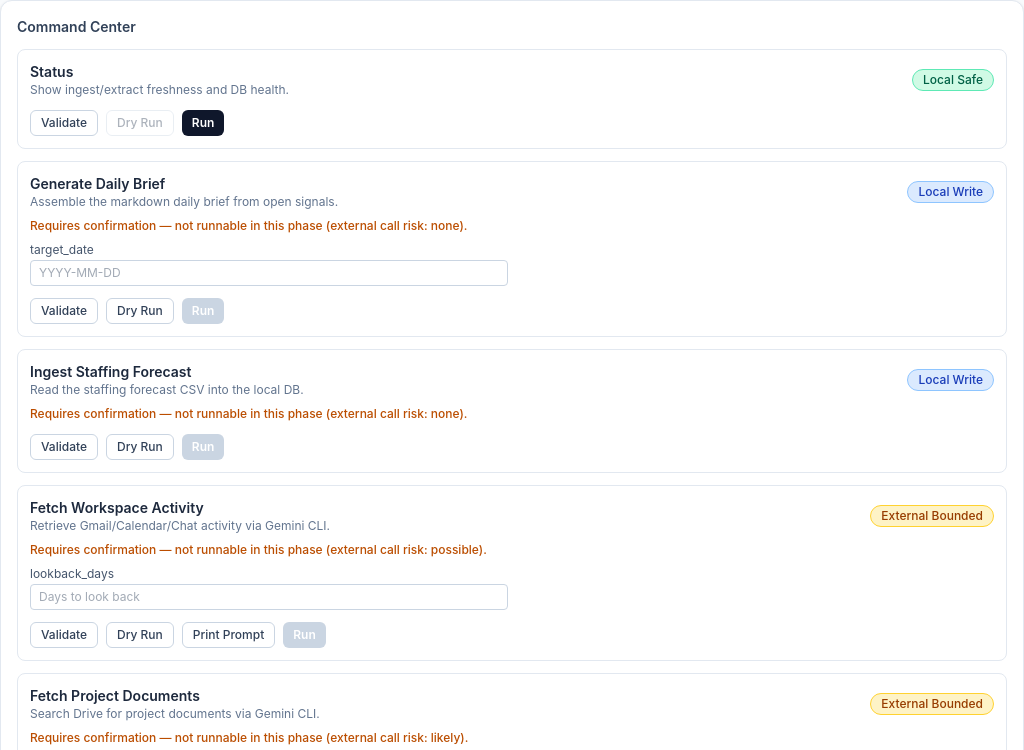
Scenario: CommandCenter › validates a safe command and shows the estimated tokens / argv preview
Step 1. Click the button "Validate" below "Status" → click(64, 123), box [30,110,98,136]
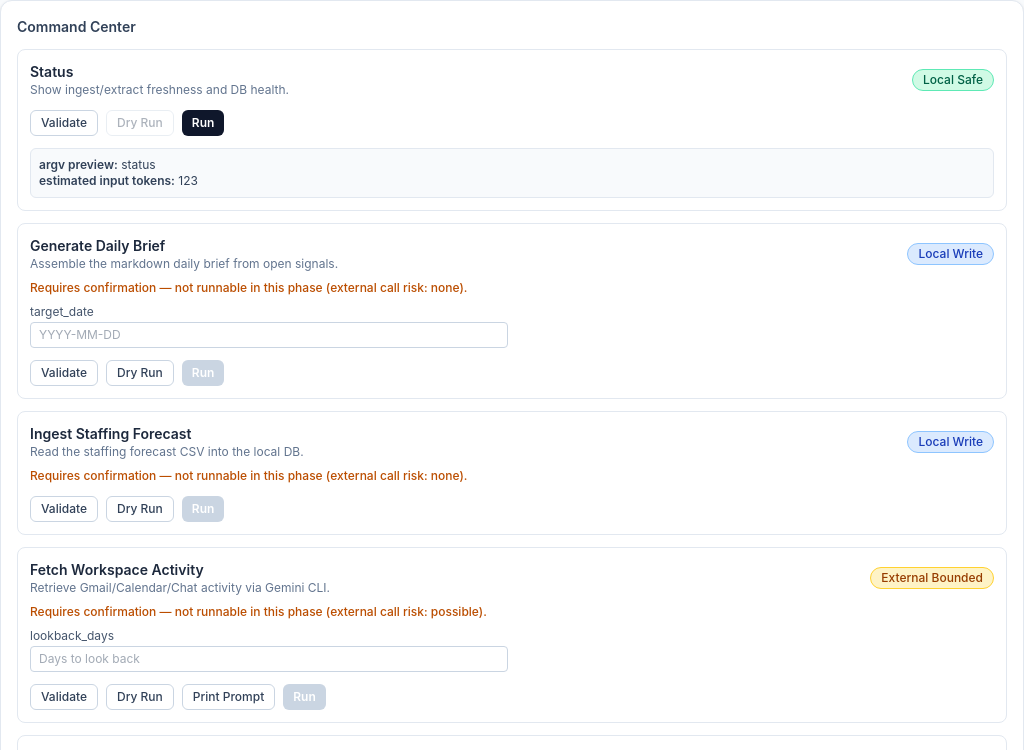
expect the text "argv preview:" is shown: met, box [39,157,118,172]
expect the element with test id "command-row-status" shows "123": met, box [178,173,198,188]
